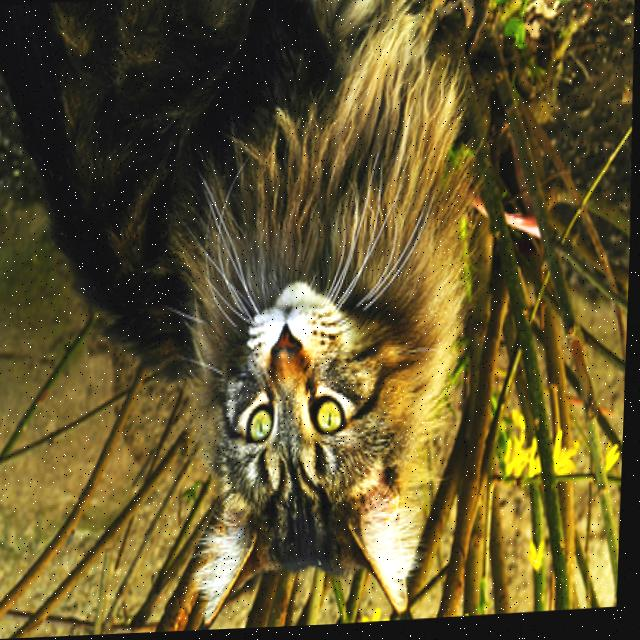Maine Coon: (0, 0, 489, 640)
